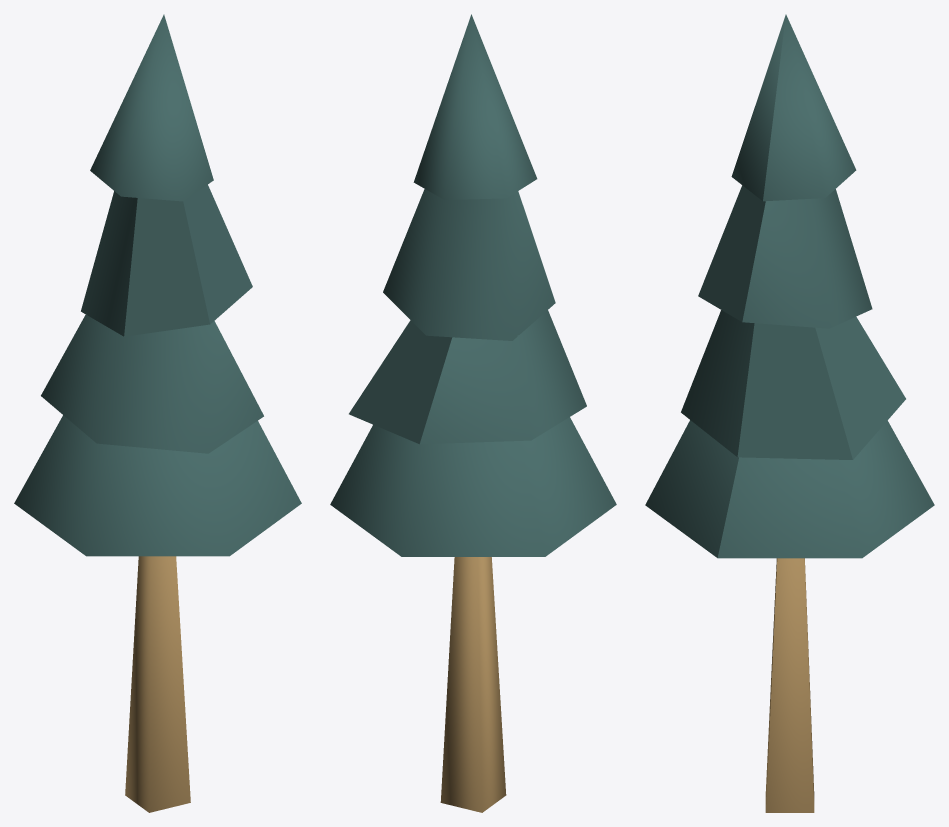
Rendered from naturePack_051.obj.
3 views of the same model, side by side, from view 1: azimuth 30°, elevation 25°; view 2: azimuth 150°, elevation 25°; view 3: azimuth 270°, elevation 25° (orthographic).
Parts seen in each view (by area): view 1: naturePack_051; view 2: naturePack_051; view 3: naturePack_051.
Part boxes in pixels (bbox=[...]): naturePack_051: bbox=[14, 14, 301, 812]; naturePack_051: bbox=[330, 14, 616, 812]; naturePack_051: bbox=[645, 14, 934, 812].
Size of the model in its own units: 1.92 by 6.68 by 2.22.
